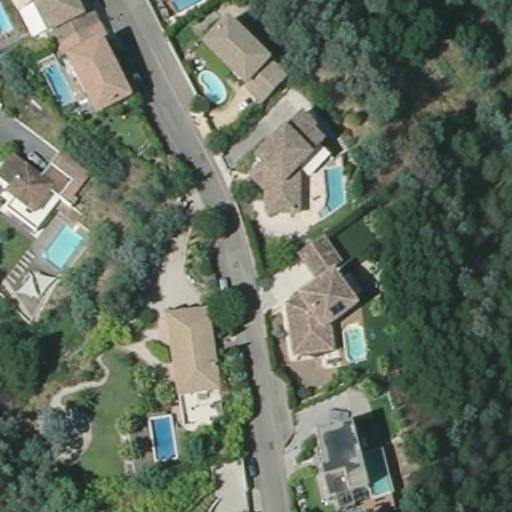pool: (362, 447, 395, 495), (46, 226, 83, 268), (147, 411, 177, 461), (45, 60, 73, 110), (321, 164, 346, 216), (340, 322, 367, 363), (196, 67, 226, 102), (167, 0, 205, 14), (0, 0, 12, 37)
